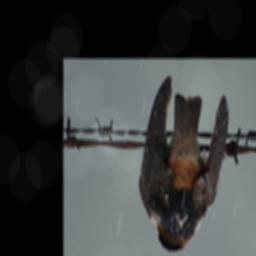Swallow: (138, 74, 230, 252)
